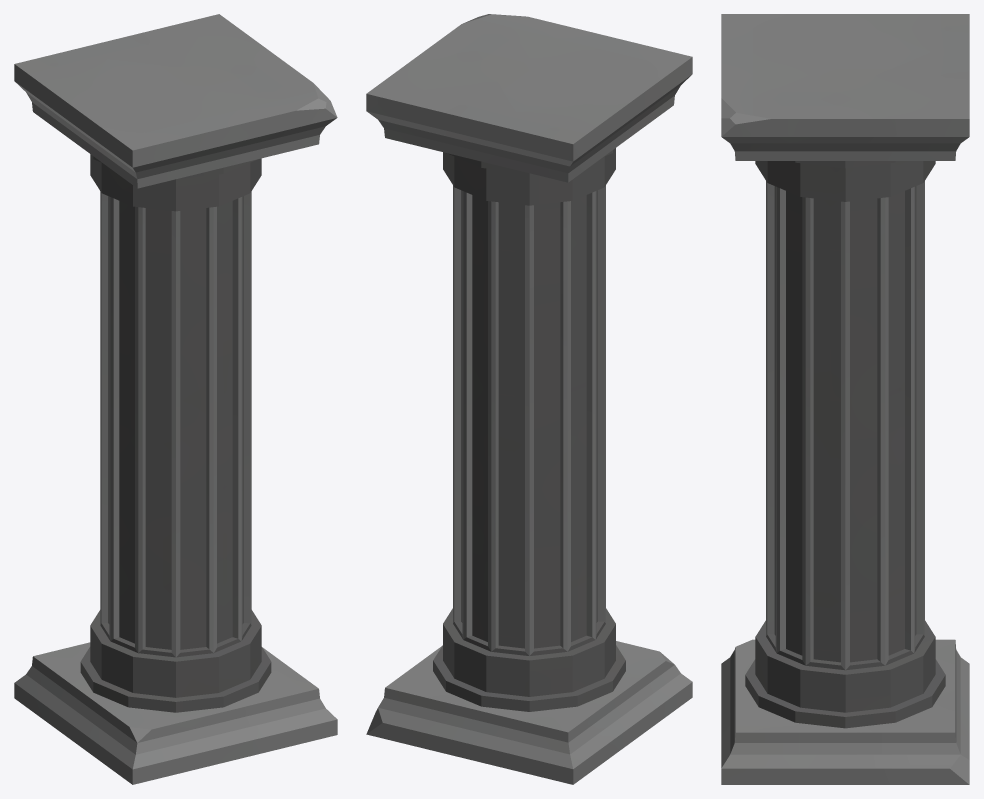
File: Pillar_4.fbx
3 renders of one model, left to right at view 1: azimuth 30°, elevation 25°; view 2: azimuth 150°, elevation 25°; view 3: azimuth 270°, elevation 25°, orthographic. The views are drawn at different scales.
Visible parts, largest first — view 1: Pillar 4; view 2: Pillar 4; view 3: Pillar 4.
Boxes of the visible parts, x1,y1,x2,y2 form: Pillar 4: [14, 14, 337, 784]; Pillar 4: [366, 14, 692, 784]; Pillar 4: [721, 14, 969, 784].
Size of the model in its own units: 84.42 by 250 by 84.42.
